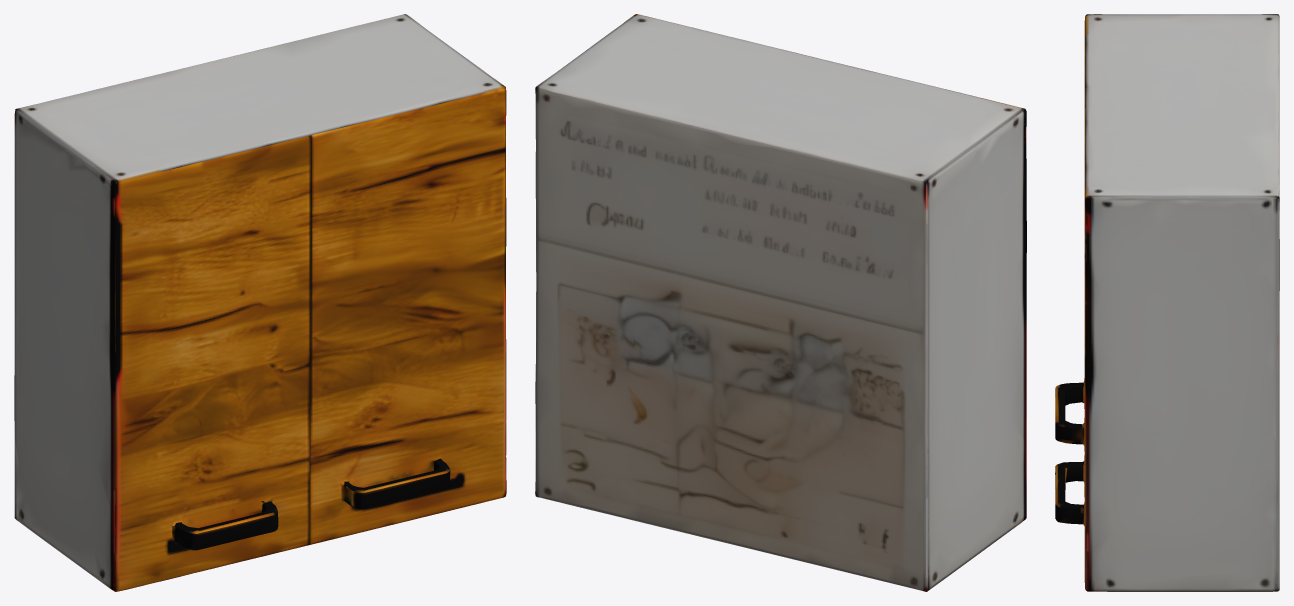
Rendered from PlacardCuisine2bis_3D_textured.glb.
3 renders of one model, left to right at view 1: azimuth 30°, elevation 25°; view 2: azimuth 150°, elevation 25°; view 3: azimuth 270°, elevation 25°, orthographic. The views are drawn at different scales.
Visible parts, largest first — view 1: temp_mesh.ply; view 2: temp_mesh.ply; view 3: temp_mesh.ply.
Part boxes in pixels (bbox=[...]): temp_mesh.ply: bbox=[14, 14, 506, 591]; temp_mesh.ply: bbox=[535, 14, 1026, 591]; temp_mesh.ply: bbox=[1055, 14, 1279, 591].
Bounding box in the file's own units: 1.97 × 1.97 × 1.02.
1 material, 1 textured.
